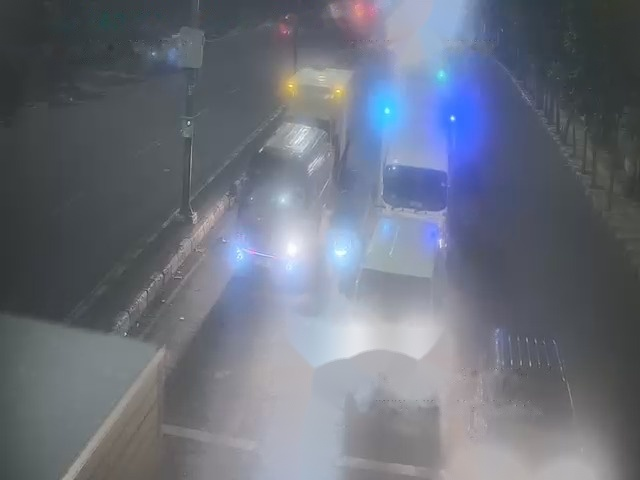Mobil: (476, 319, 589, 479), (239, 110, 348, 274), (363, 213, 431, 353)
Truk: (368, 86, 460, 243)
